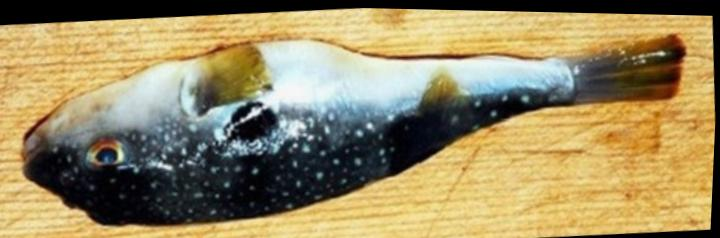fish: (25, 34, 684, 224)
